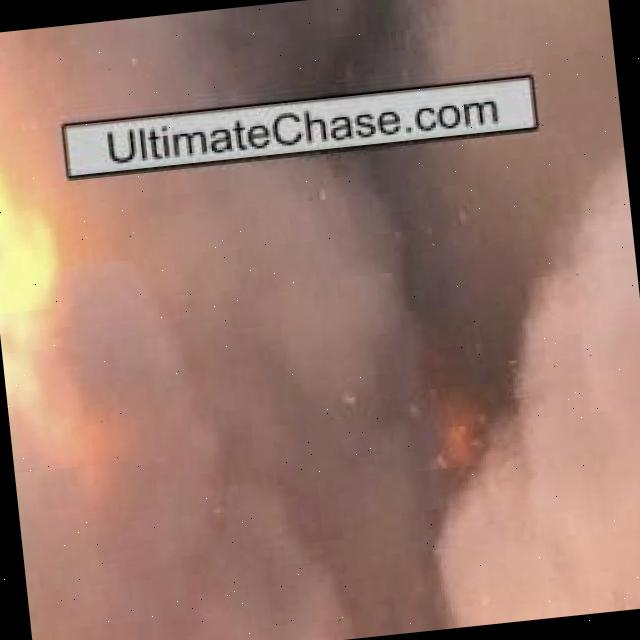fire: (0, 126, 124, 497), (430, 378, 506, 488)
